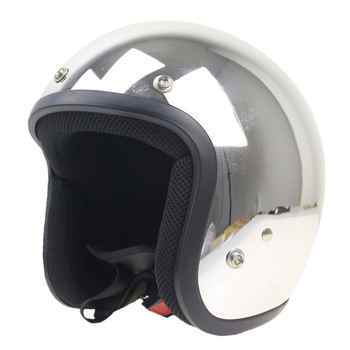with_helmet: (26, 22, 327, 332)
